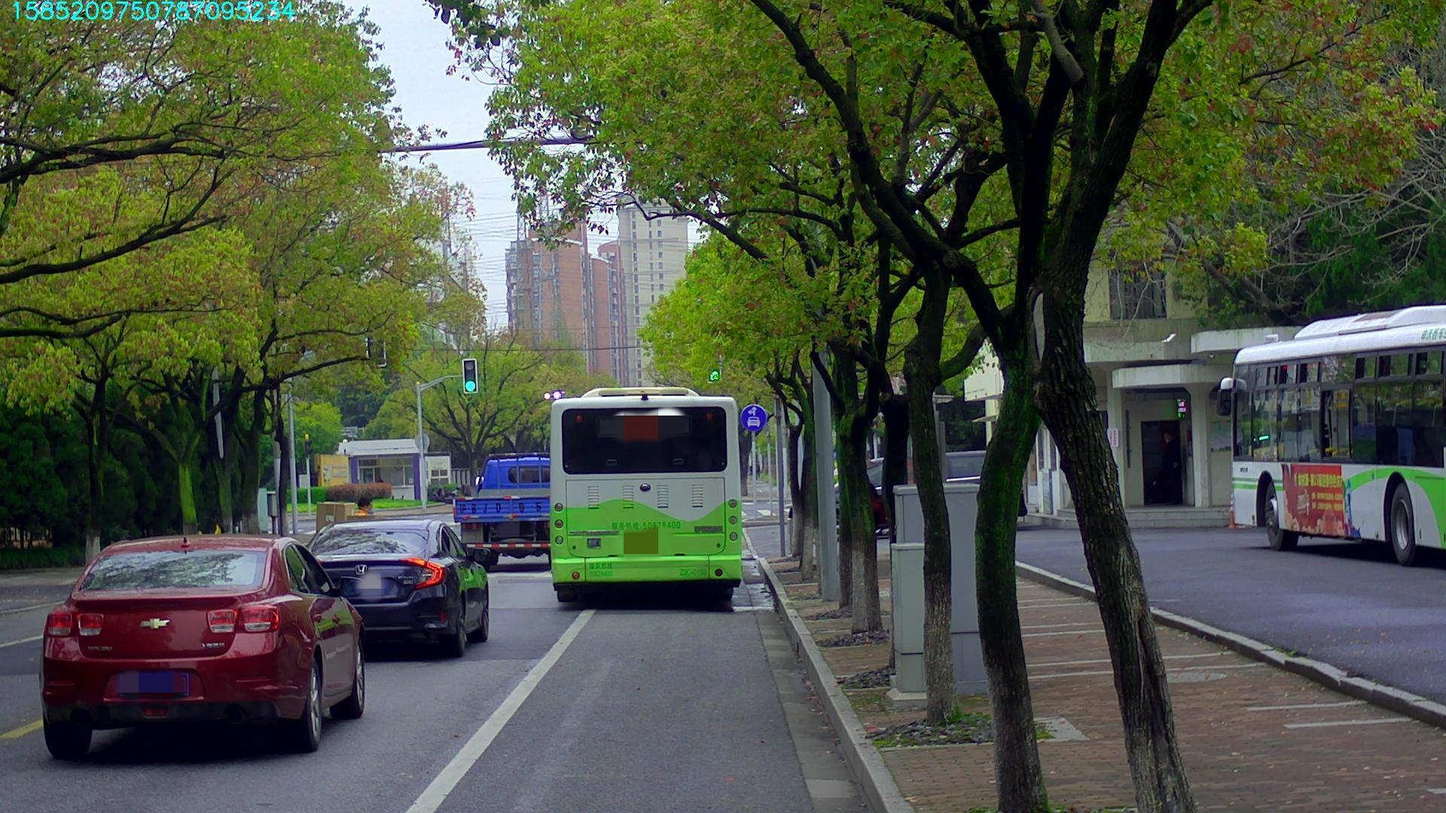green: (462, 359, 476, 391), (708, 367, 721, 381)
